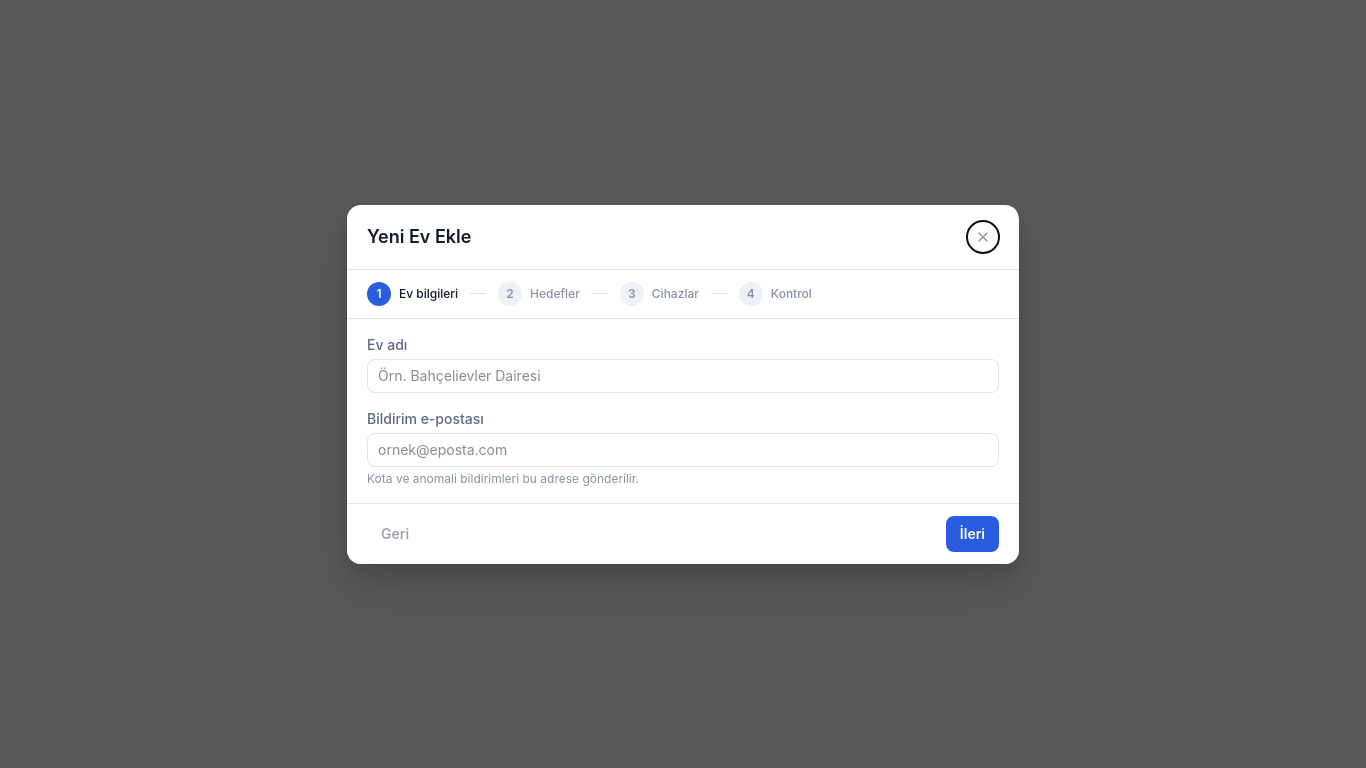
AddHomeWizard › decrements catalog item quantity from the tray, removing the most recently added instance
In the field labelled "Ev adı": (683, 376) [367,358,999,392], type "Bahçelievler Dairesi"
In the field labelled "Bildirim e-postası": (683, 450) [367,432,999,466], type "test@example.com"
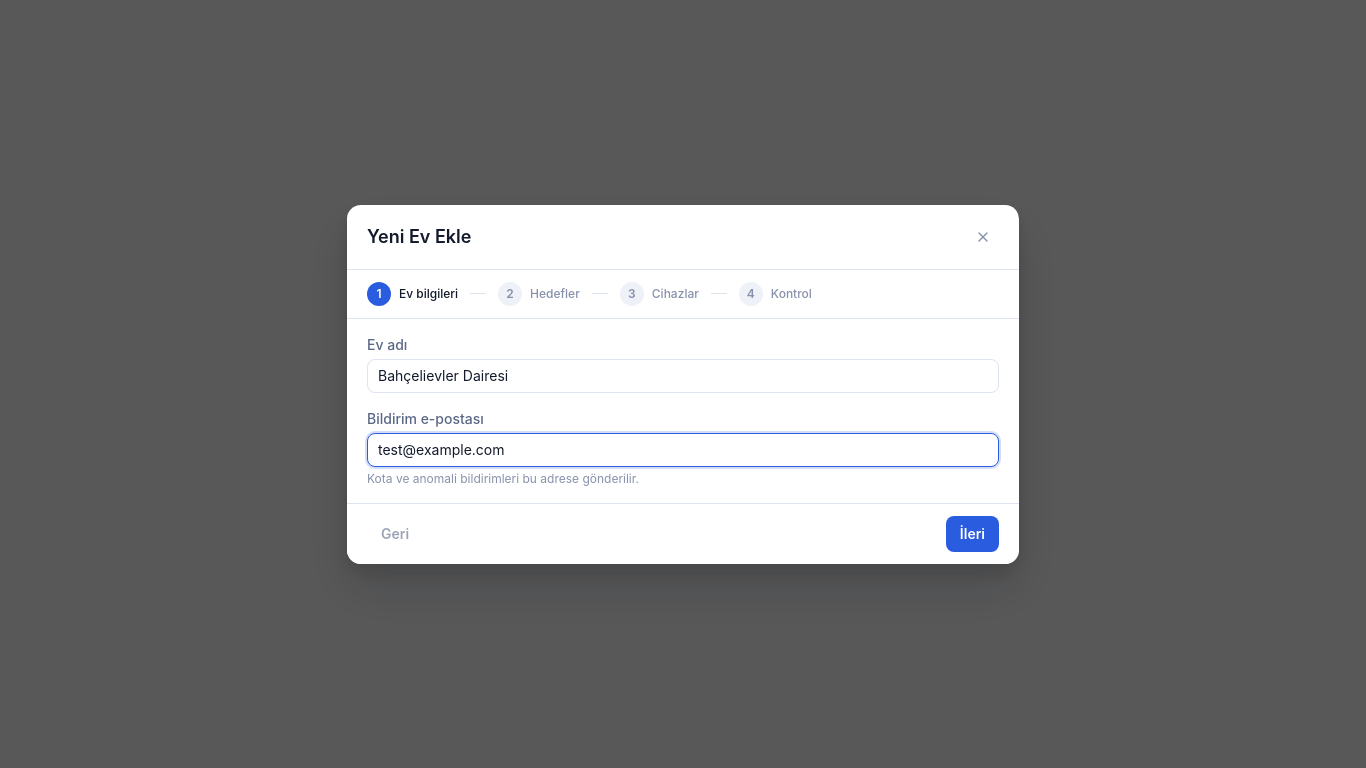
Click the button "İleri": (972, 534) [946,516,999,552]
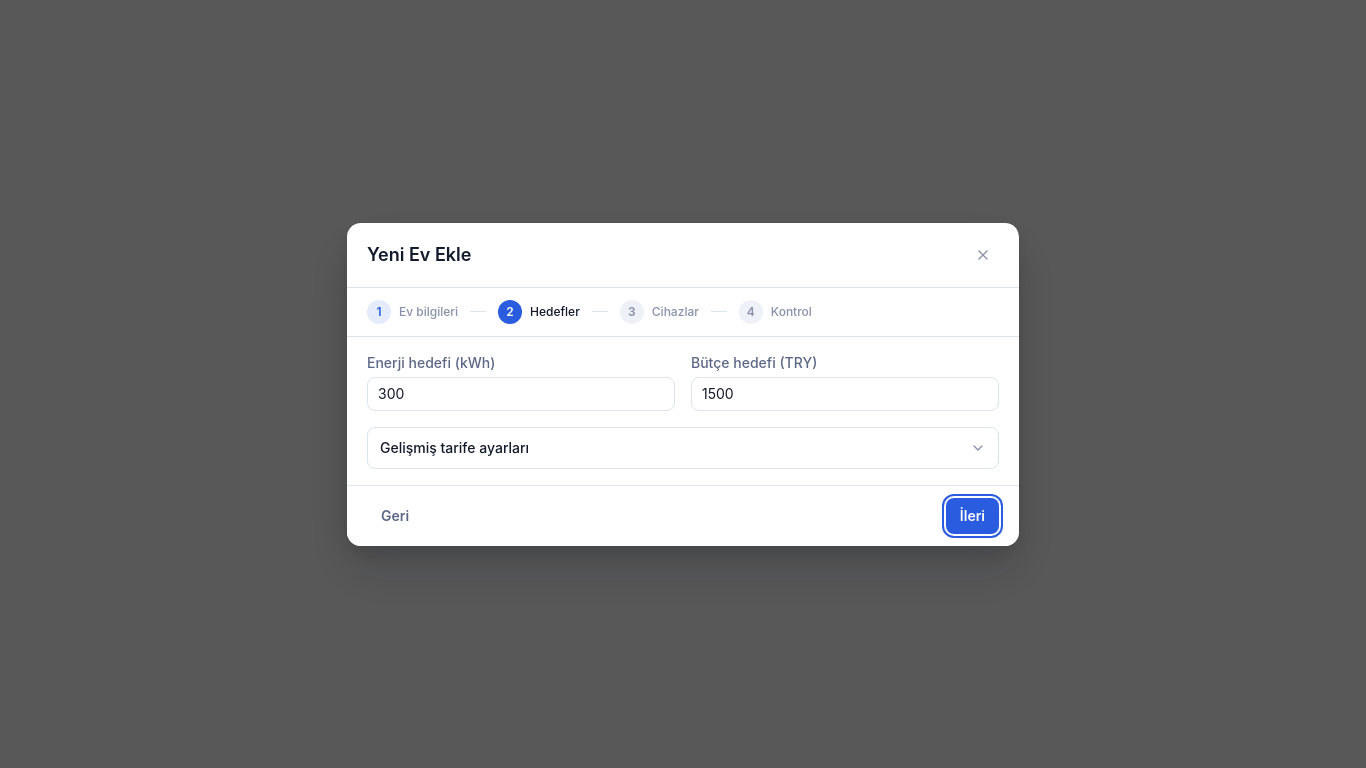
Click the button "İleri": (972, 516) [946,498,999,534]
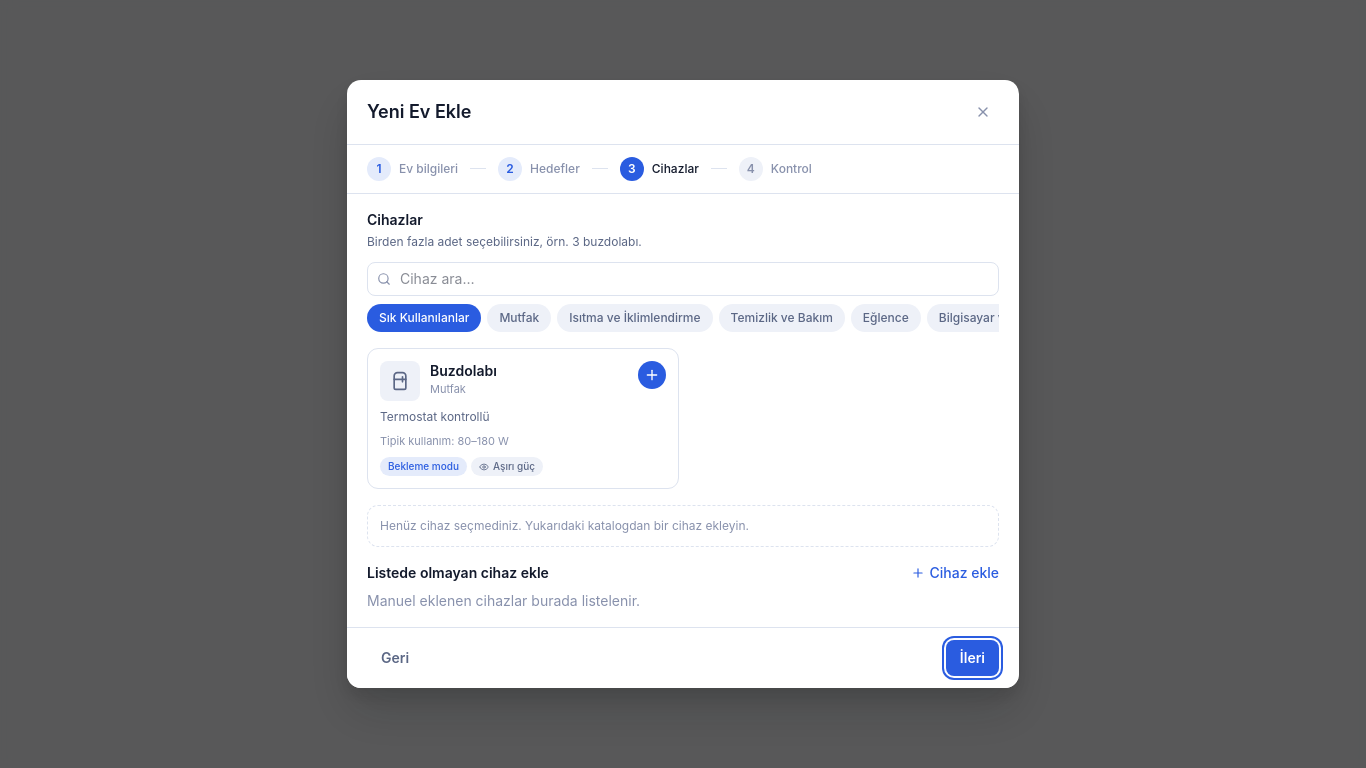
Now the text "Buzdolabı" is shown, box [430,362,497,379]
Click the button named "Buzdolabı ekle": (652, 375) [638,361,666,389]
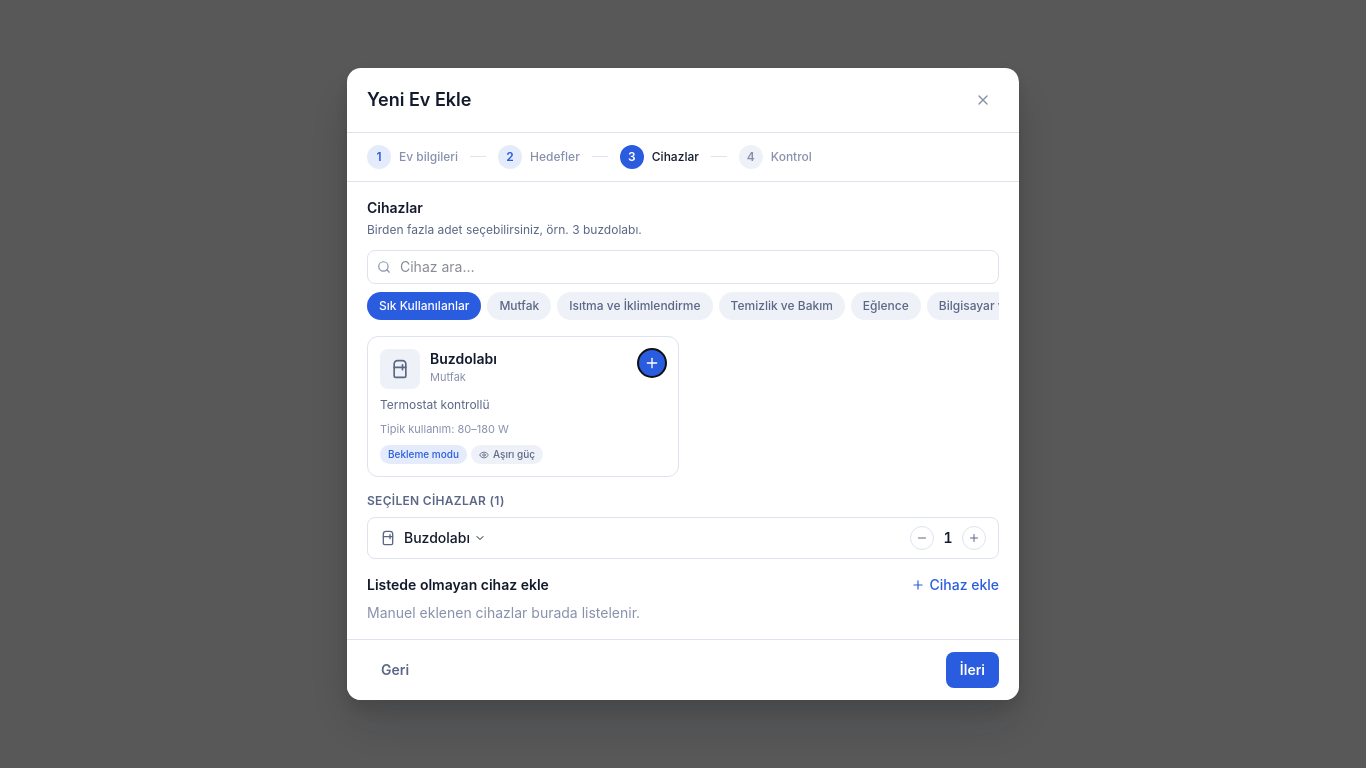
Click the button named "Buzdolabı adedini artır": (974, 538) [962,526,986,550]
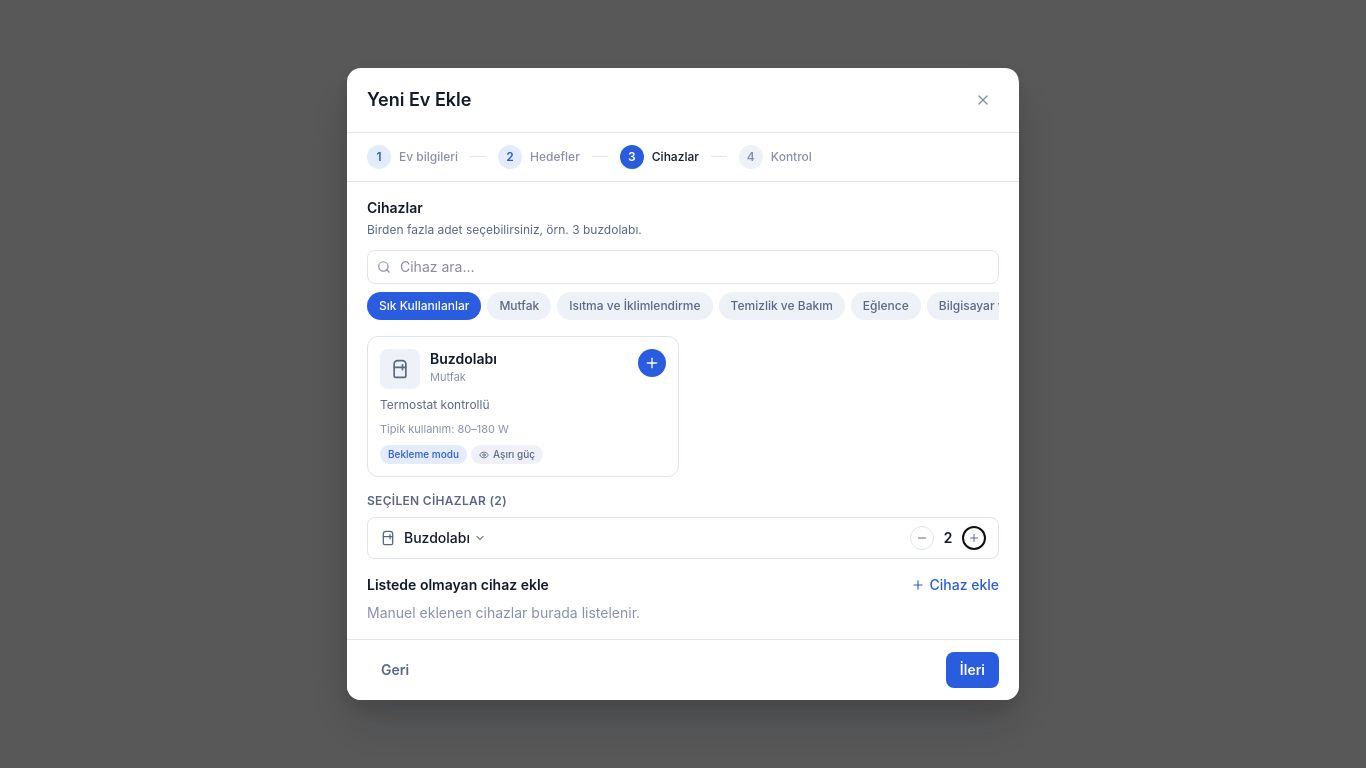
Now the heading "Seçilen Cihazlar (2)" is shown, box [367,493,507,508]
Click the button named "Buzdolabı adedini azalt": (922, 538) [910,526,934,550]
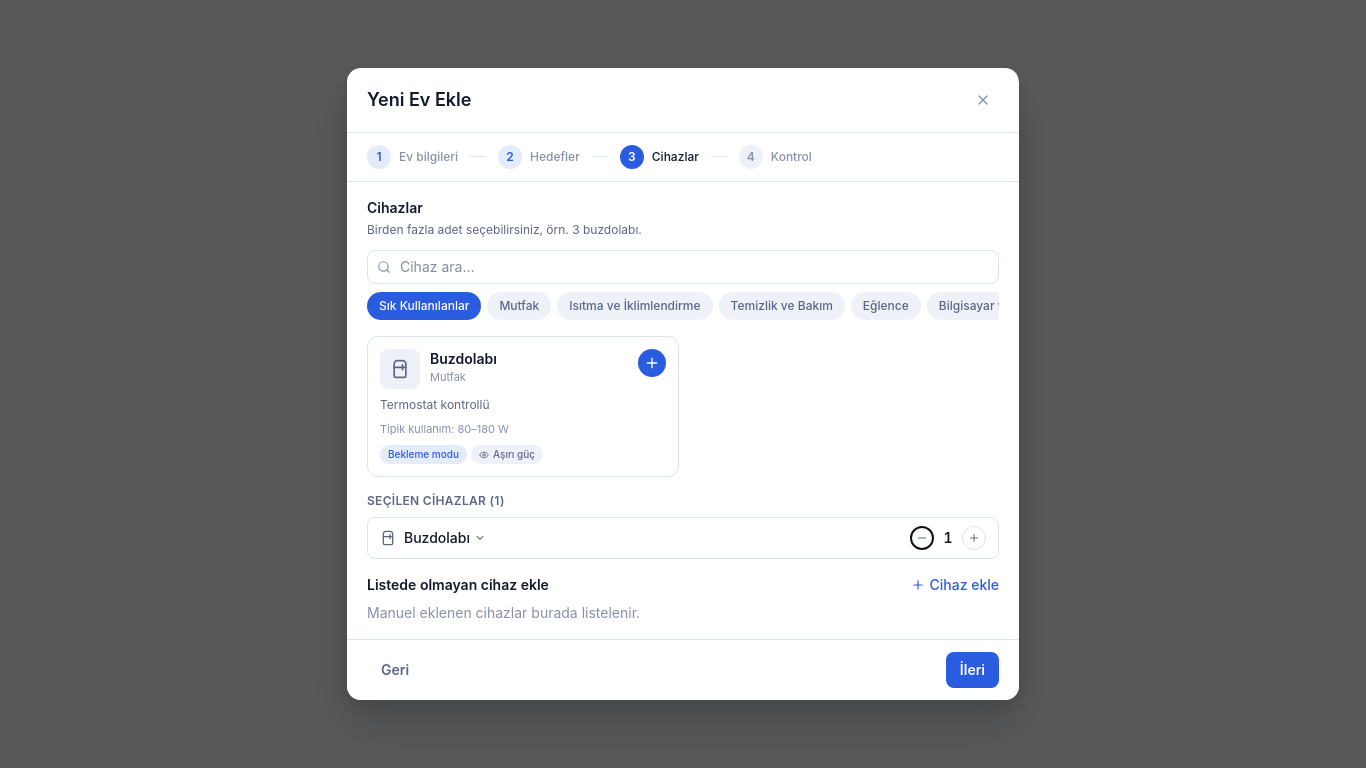
Now the heading "Seçilen Cihazlar (1)" is shown, box [367,493,505,508]
